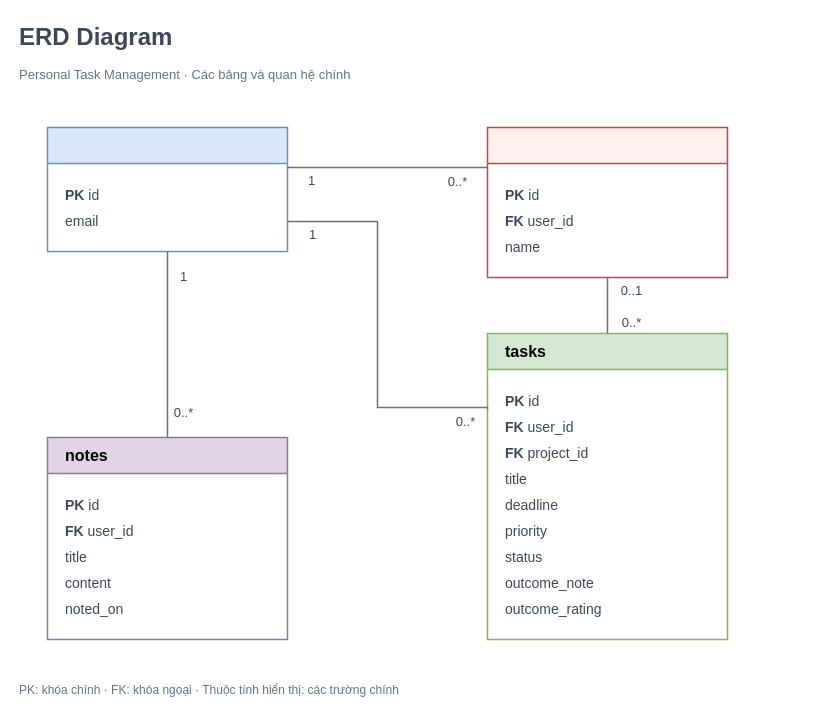
Some shapes in this 834 by 720 pixel diagram are drawn without their labels. Each missing label, with the box of its shape:
projects: (486, 126, 728, 278)
users: (46, 126, 288, 252)
